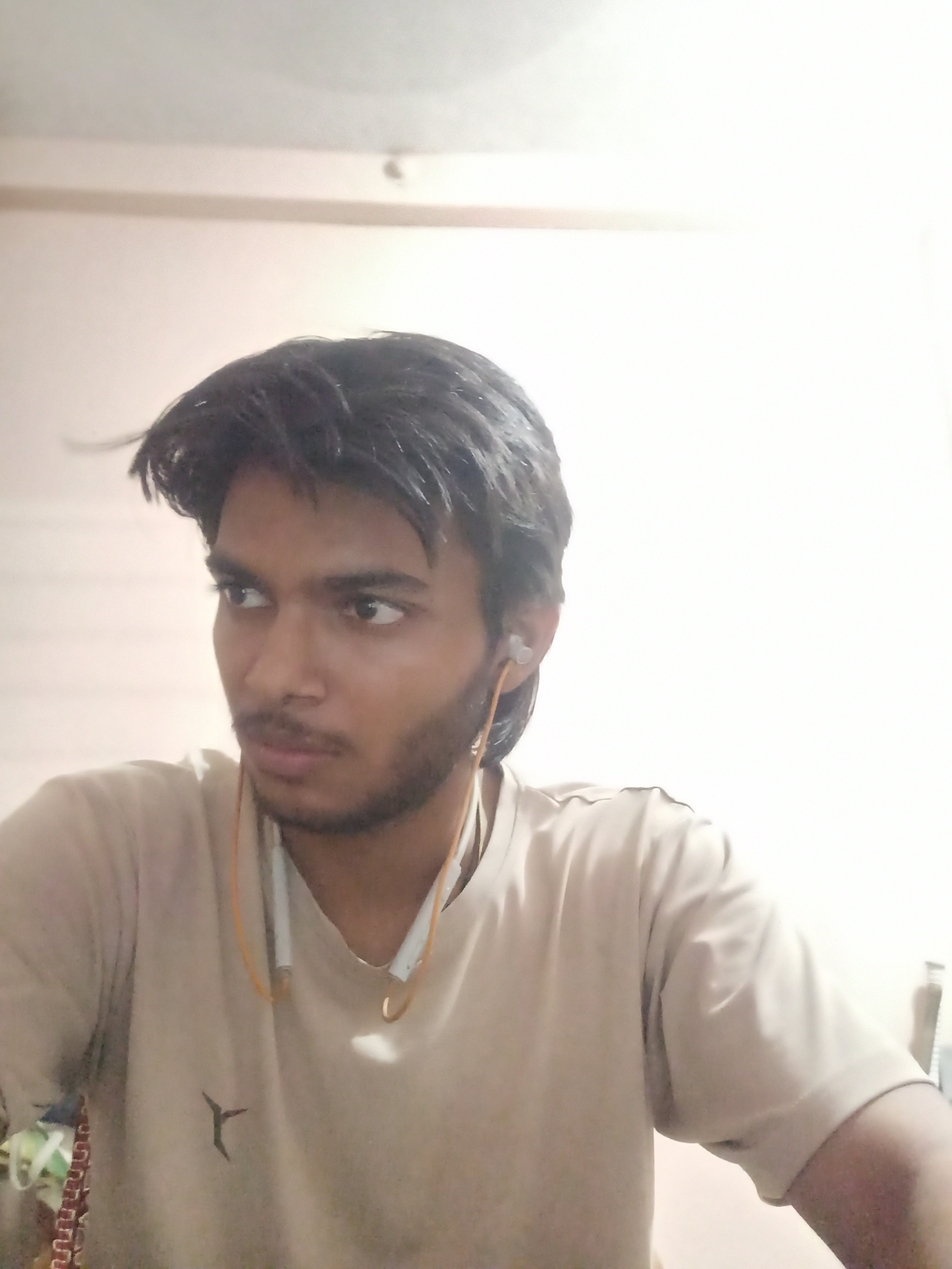distracted: (124, 304, 526, 880)
